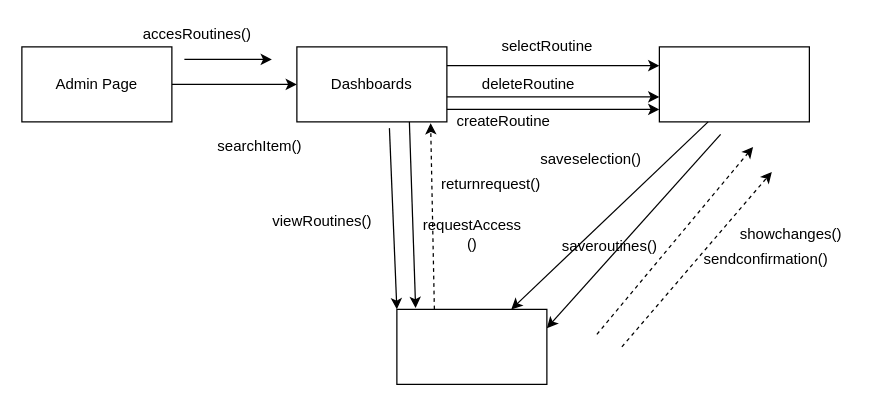
Some shapes in this 875 by 406 pixel diagram are drawn without their labels. The shapes that lost their labels are listed below. From the top down, each one's centre as x and y in pixels, then its label:
the point at 733,84: Routines
the point at 471,346: Server
